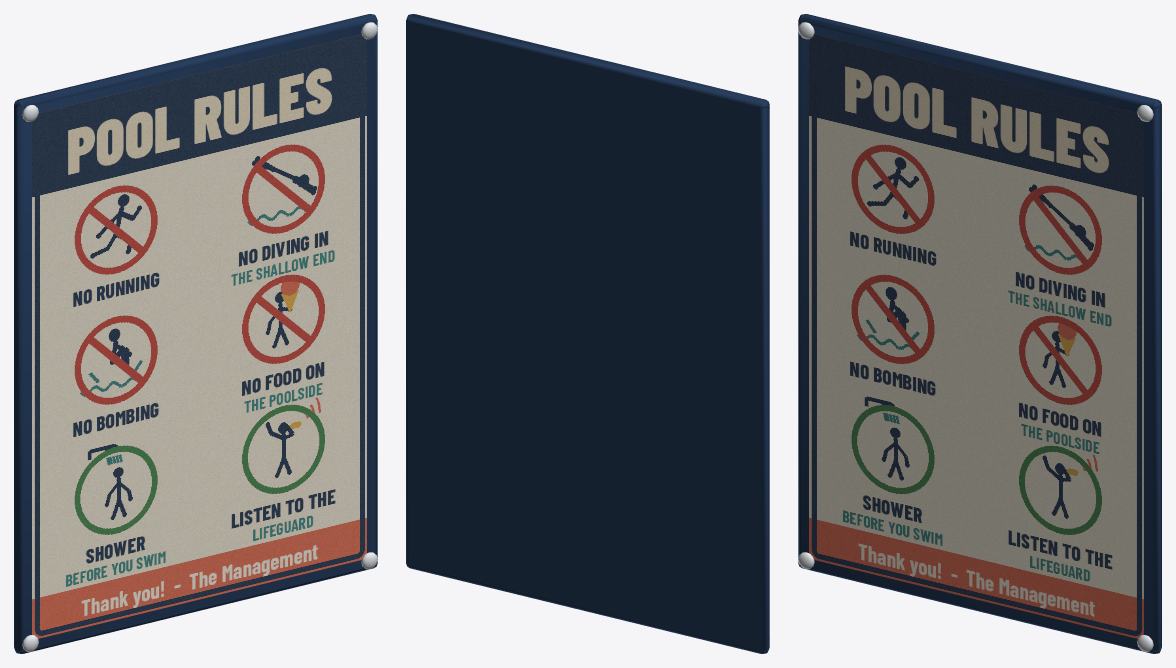
The model's file is rules_board.glb.
3 views of the same model, side by side, from view 1: azimuth 30°, elevation 25°; view 2: azimuth 150°, elevation 25°; view 3: azimuth 330°, elevation 25° (orthographic).
Visible parts, largest first — view 1: RulesBoardBody; view 2: RulesBoardBody; view 3: RulesBoardBody.
Part boxes in pixels (box(x1,y1,x2,y2)): RulesBoardBody: box(14, 14, 377, 653); RulesBoardBody: box(406, 14, 769, 653); RulesBoardBody: box(798, 14, 1161, 653).
Bounding box in the file's own units: 0.54 × 0.79 × 0.026.
3 materials, 1 textured.
